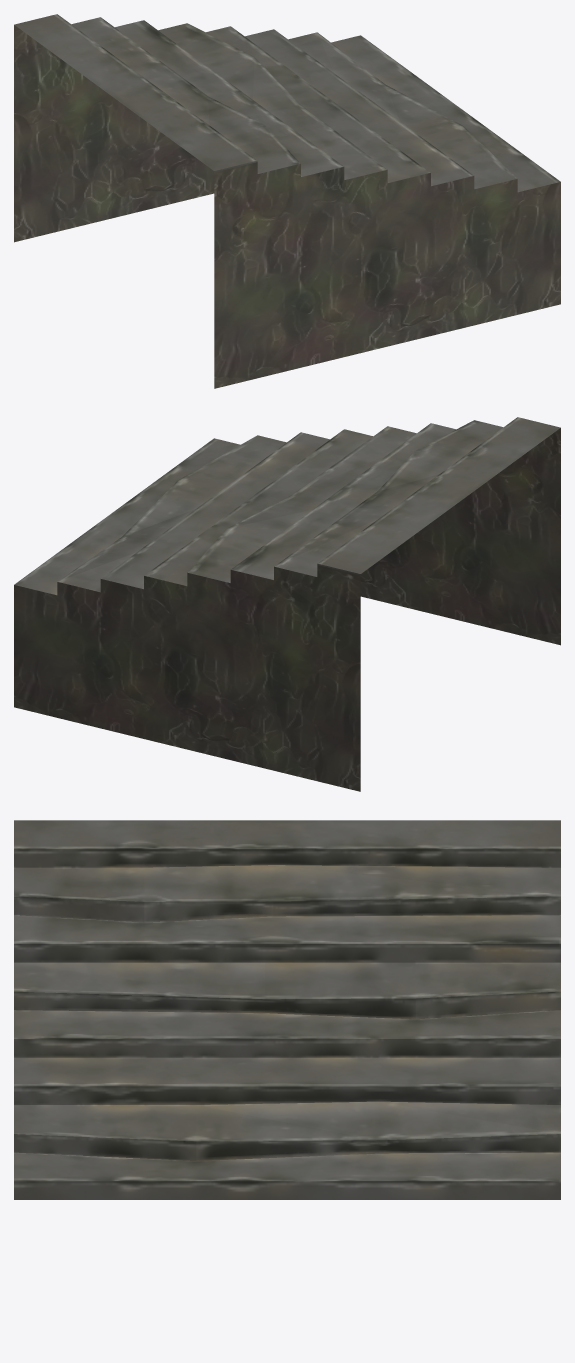
File: Stairs_high.obj
3 renders of one model, top to bottom at view 1: azimuth 30°, elevation 25°; view 2: azimuth 150°, elevation 25°; view 3: azimuth 270°, elevation 25°, orthographic. The views are drawn at different scales.
Parts seen in each view (by area): view 1: Stairs_high; view 2: Stairs_high; view 3: Stairs_high.
Part boxes in pixels (x1,y1,x2,y2): Stairs_high: (14, 14, 560, 388); Stairs_high: (14, 417, 560, 791); Stairs_high: (14, 820, 560, 1199).
Size of the model in its own units: 10 by 6 by 10.
